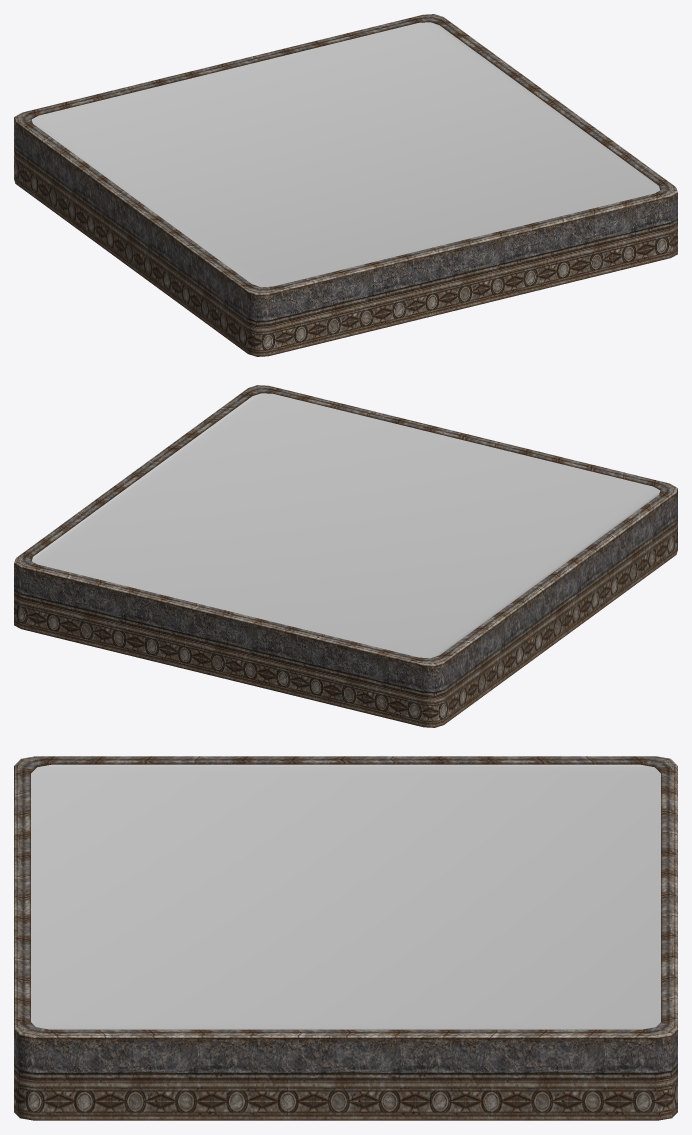
File: prf_env_bld_BaseBuild_Small.fbx
3 views of the same model, one above another, from view 1: azimuth 30°, elevation 25°; view 2: azimuth 150°, elevation 25°; view 3: azimuth 270°, elevation 25° (orthographic). The views are drawn at different scales.
Parts seen in each view (by area): view 1: prf_env_bld_BaseBuild_Small; view 2: prf_env_bld_BaseBuild_Small; view 3: prf_env_bld_BaseBuild_Small.
Part boxes in pixels (bbox=[...]): prf_env_bld_BaseBuild_Small: bbox=[14, 14, 677, 356]; prf_env_bld_BaseBuild_Small: bbox=[14, 385, 677, 727]; prf_env_bld_BaseBuild_Small: bbox=[14, 756, 677, 1120].
Size of the model in its own units: 15 by 2.1 by 15.
